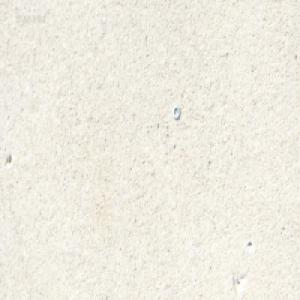Washer: (172, 105, 180, 120)
